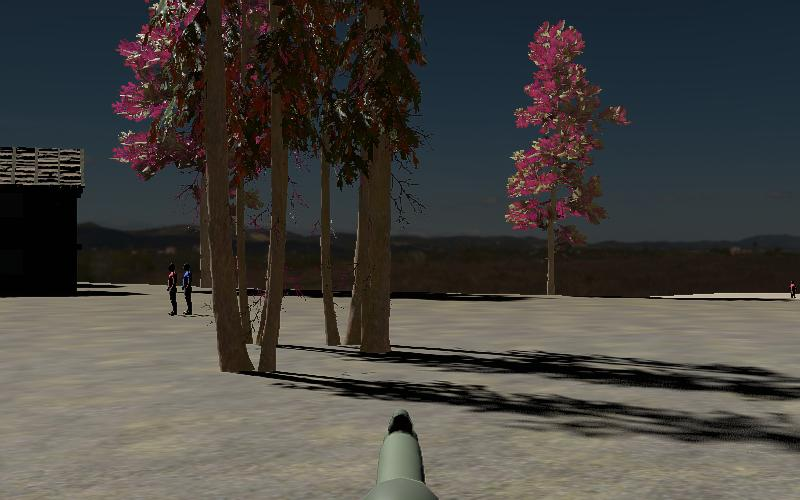House: (0, 146, 87, 296)
Human: (164, 261, 179, 318), (180, 262, 195, 316), (788, 279, 800, 301)
